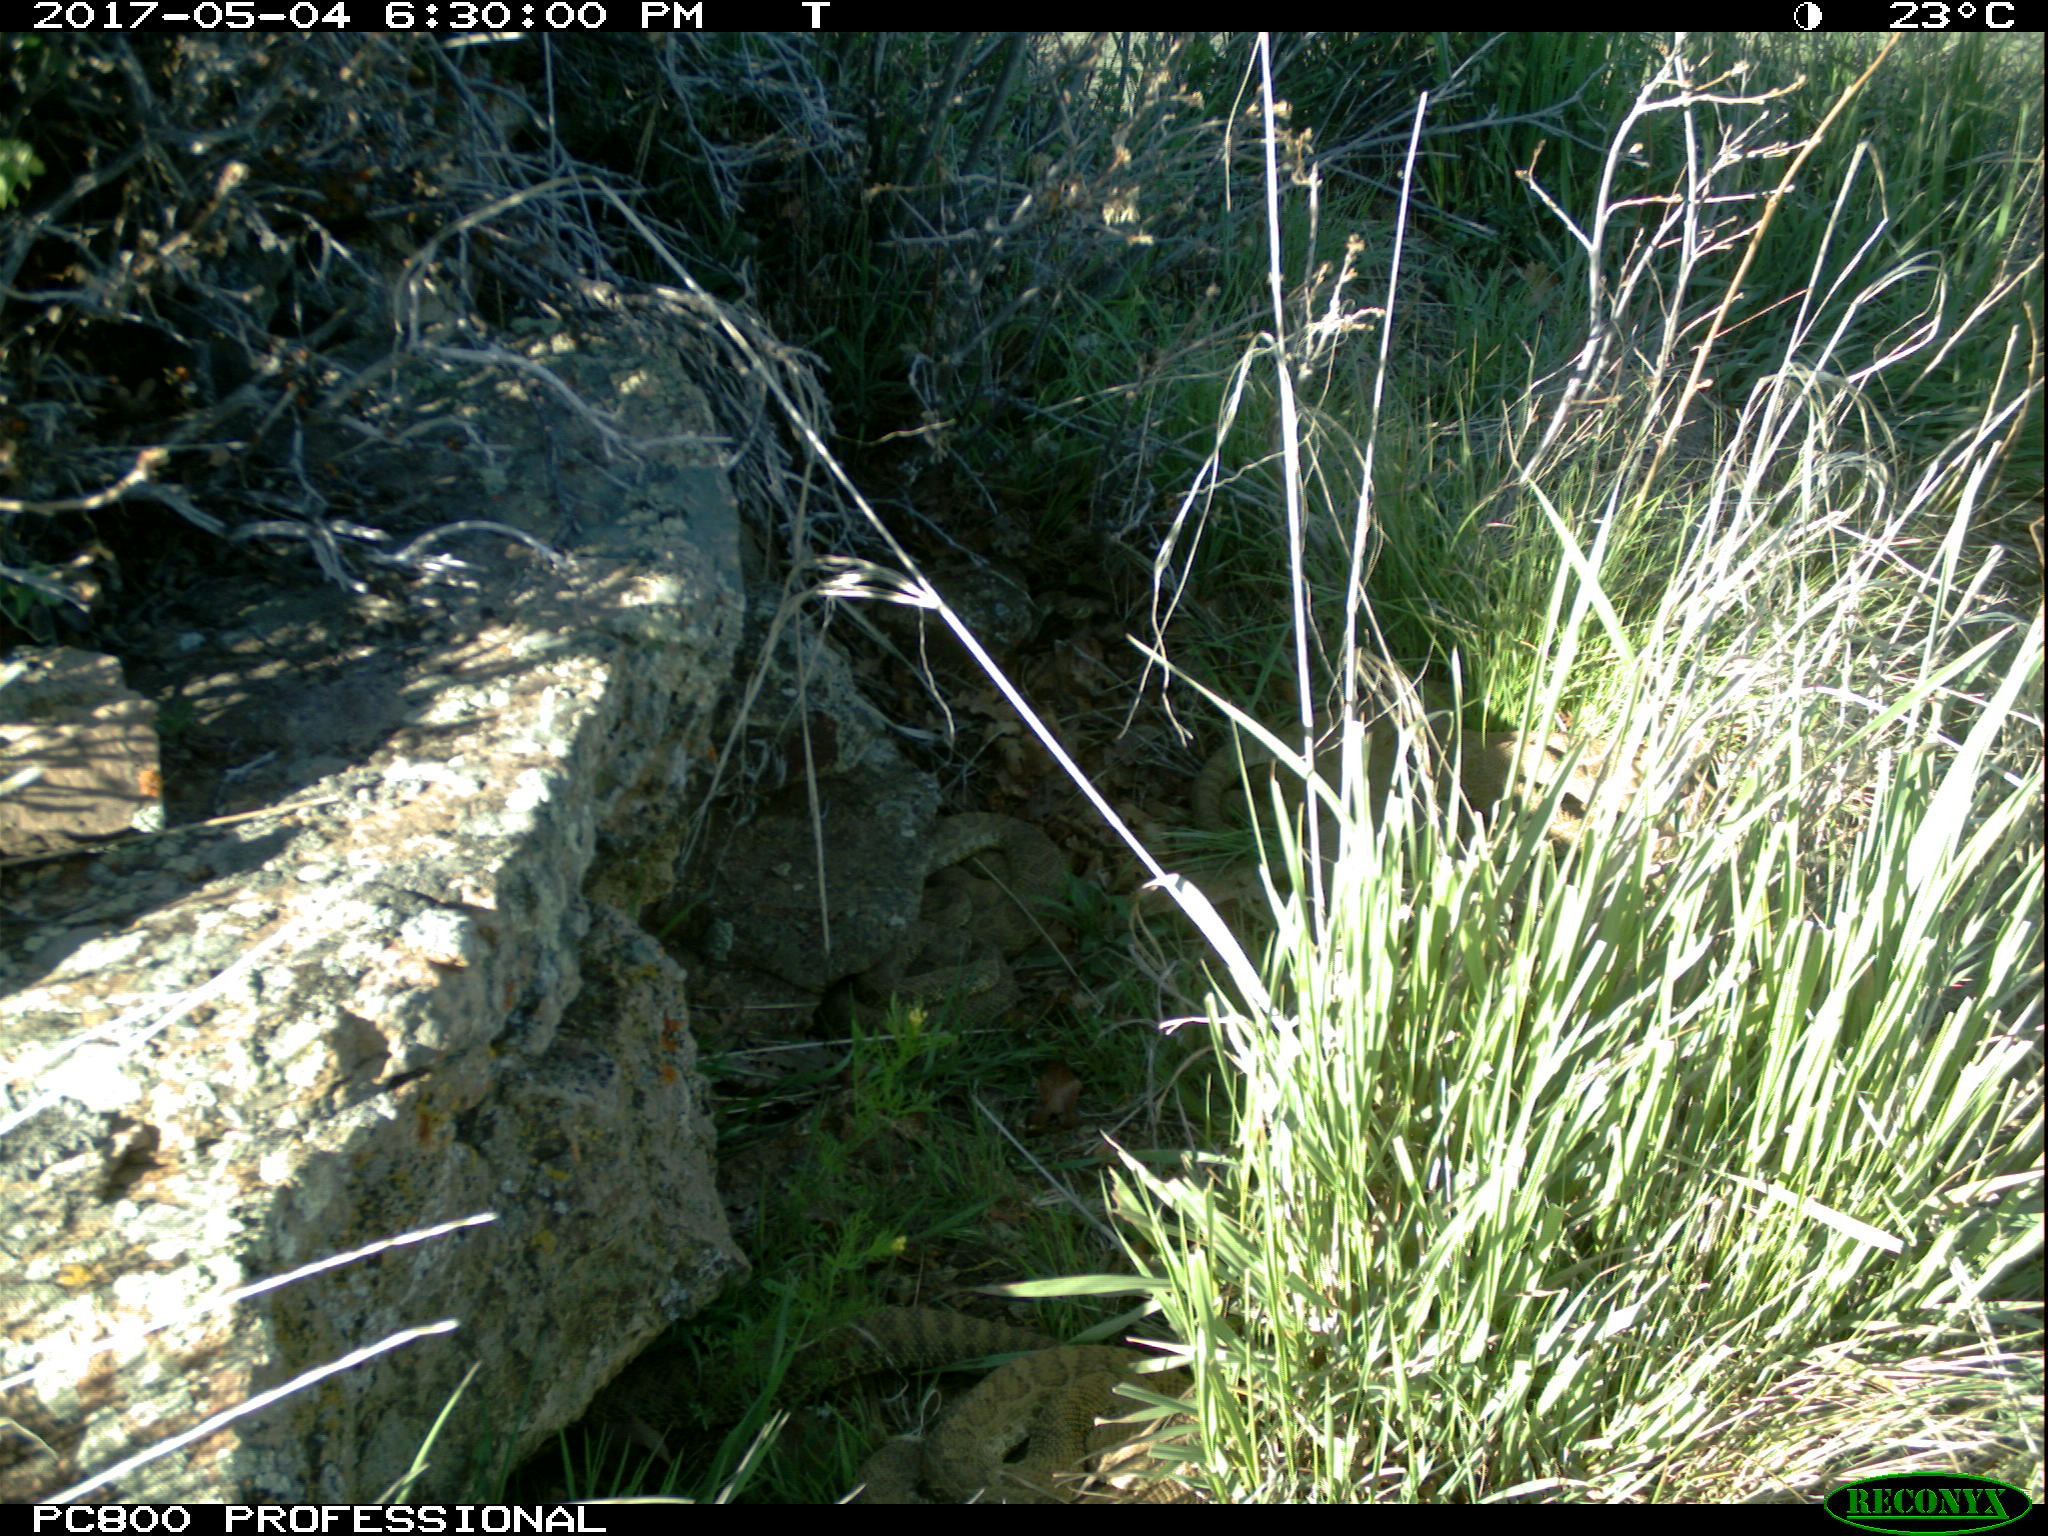snake: (785, 1318, 1209, 1502), (869, 815, 1085, 1013), (1464, 721, 1671, 845), (1192, 720, 1393, 837)
